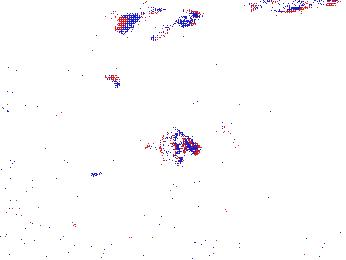X-ray fish: (211, 99, 283, 147), (140, 132, 204, 159)
redtail glassfish: (119, 6, 206, 42)
